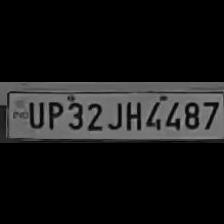2: (84, 98, 104, 130)
3: (65, 97, 83, 128)
4: (160, 96, 180, 128), (144, 96, 160, 130)
7: (201, 96, 221, 130)
8: (180, 97, 200, 129)
H: (122, 96, 142, 130)
J: (106, 98, 122, 130)
P: (44, 97, 64, 128)
U: (24, 96, 44, 128)
